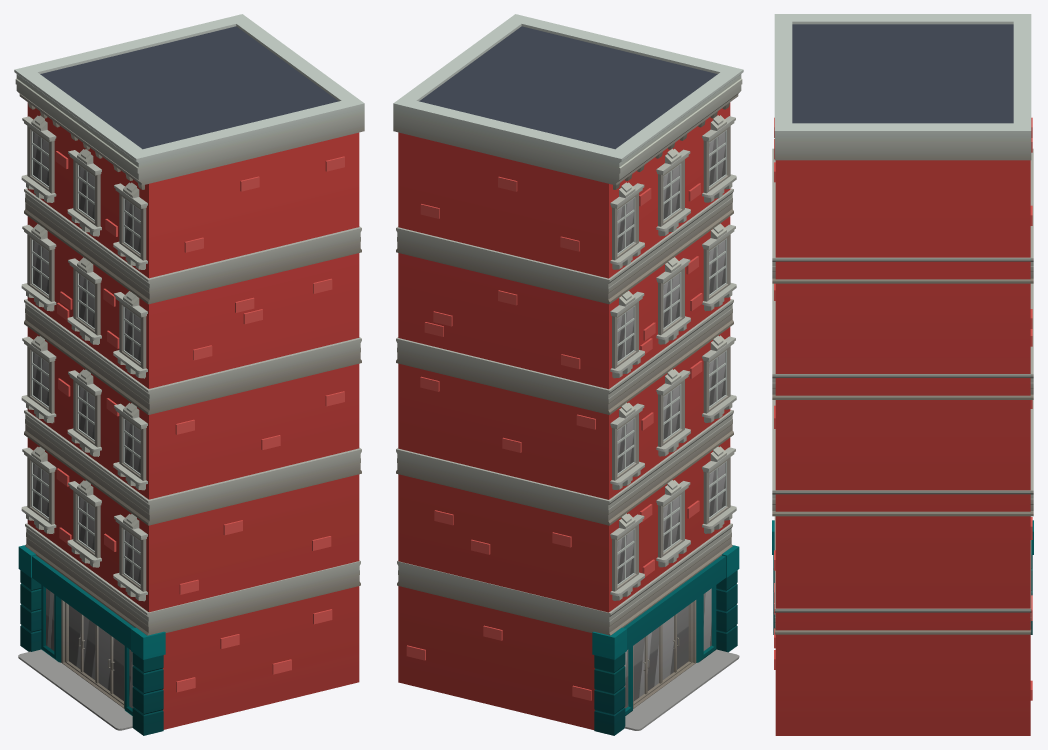
Rendered from Building_21_1_A.fbx.
The picture shows the model from 3 angles, left to right: view 1: azimuth 30°, elevation 25°; view 2: azimuth 150°, elevation 25°; view 3: azimuth 270°, elevation 25°; orthographic projection. The views are drawn at different scales.
Visible parts, largest first — view 1: Building_21_1_A; view 2: Building_21_1_A; view 3: Building_21_1_A.
Boxes of the visible parts, bbox=[...] form: Building_21_1_A: bbox=[14, 14, 364, 735]; Building_21_1_A: bbox=[393, 14, 743, 735]; Building_21_1_A: bbox=[772, 14, 1033, 735].
Size of the model in its own units: 779 by 1825 by 713.
